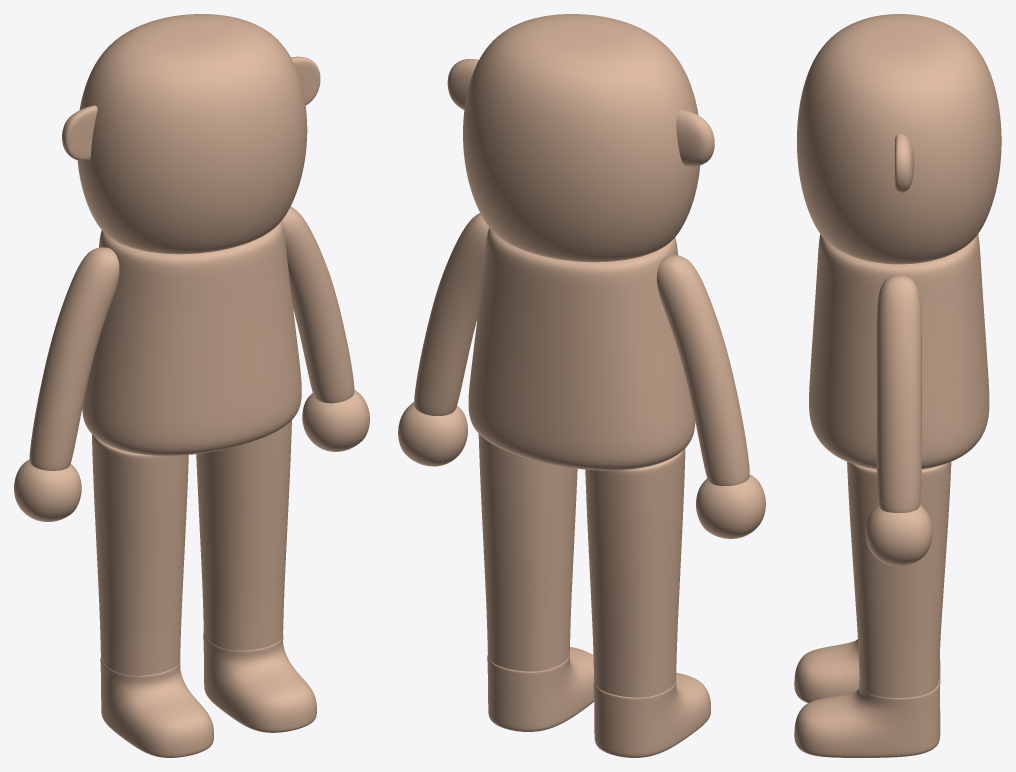
File: HOMBRE.glb
3 views of the same model, side by side, from view 1: azimuth 30°, elevation 25°; view 2: azimuth 150°, elevation 25°; view 3: azimuth 270°, elevation 25° (orthographic). The views are drawn at different scales.
Parts seen in each view (by area): view 1: CABEZA_H, CUERPO2_H, PIERNAS_H, BRAZOS_H, PIES_H, MANOS_H, OREJAS_H.001; view 2: CABEZA_H, CUERPO2_H, PIERNAS_H, BRAZOS_H, PIES_H, MANOS_H, OREJAS_H.001; view 3: CABEZA_H, CUERPO2_H, PIERNAS_H, PIES_H, BRAZOS_H, MANOS_H, OREJAS_H.001.
Part boxes in pixels (<box>): CABEZA_H: <box>77,14,307,254</box>; CUERPO2_H: <box>82,221,301,455</box>; PIERNAS_H: <box>92,420,291,675</box>; BRAZOS_H: <box>29,206,354,470</box>; PIES_H: <box>100,632,316,757</box>; MANOS_H: <box>14,389,369,521</box>; OREJAS_H.001: <box>62,56,320,160</box>; CABEZA_H: <box>463,14,700,262</box>; CUERPO2_H: <box>468,228,695,470</box>; PIERNAS_H: <box>478,434,685,697</box>; BRAZOS_H: <box>414,213,749,485</box>; PIES_H: <box>487,647,710,757</box>; MANOS_H: <box>398,402,765,538</box>; OREJAS_H.001: <box>447,59,714,166</box>; CABEZA_H: <box>797,14,1001,264</box>; CUERPO2_H: <box>809,234,989,469</box>; PIERNAS_H: <box>847,462,951,697</box>; PIES_H: <box>794,639,940,757</box>; BRAZOS_H: <box>876,275,921,513</box>; MANOS_H: <box>865,505,932,565</box>; OREJAS_H.001: <box>894,134,914,193</box>.
Bounding box in the file's own units: 3.51 × 6.54 × 1.8.
